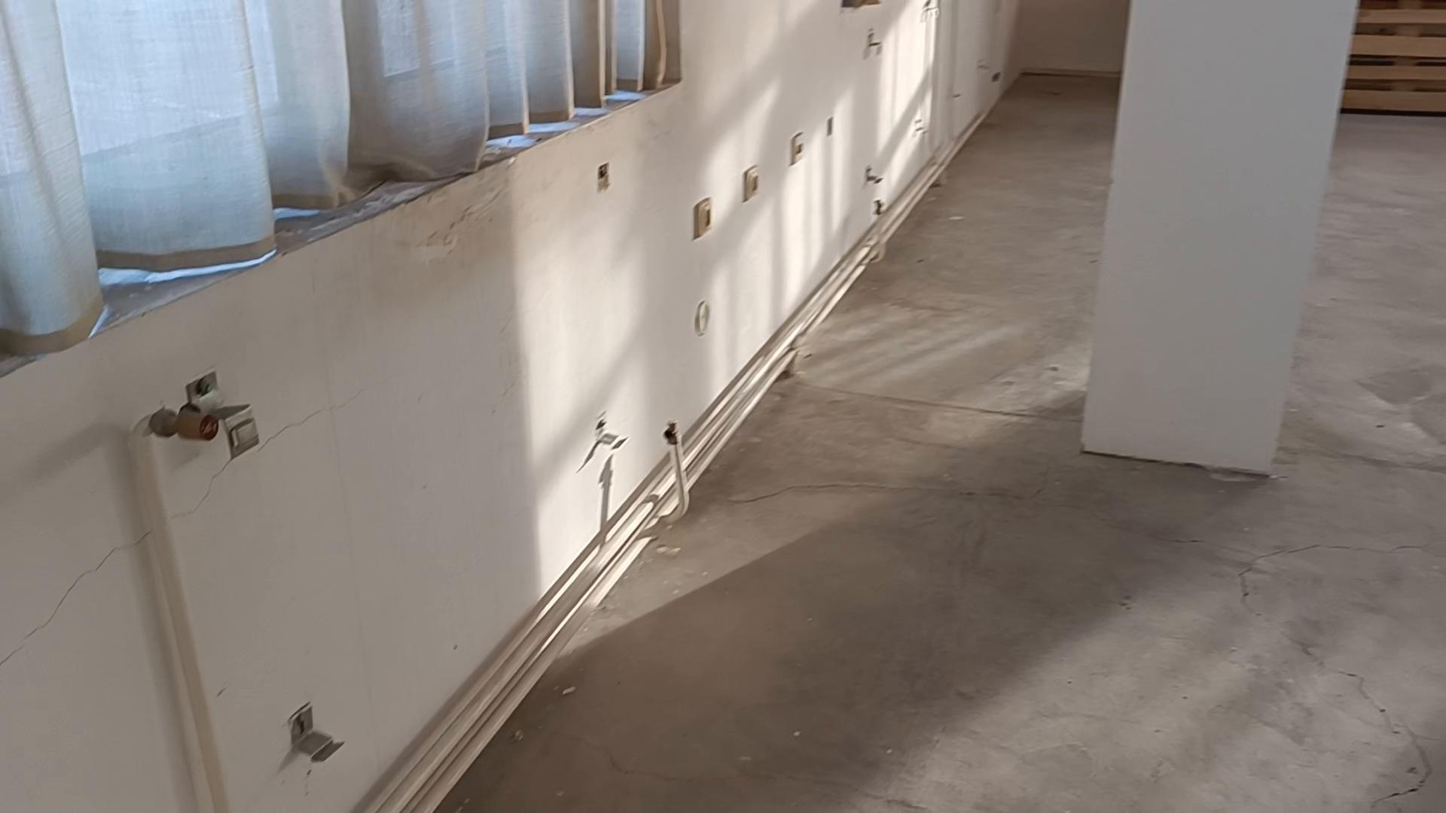floor: (441, 77, 1445, 812)
wall: (5, 0, 1007, 812), (1081, 0, 1358, 473), (1014, 4, 1125, 74)
